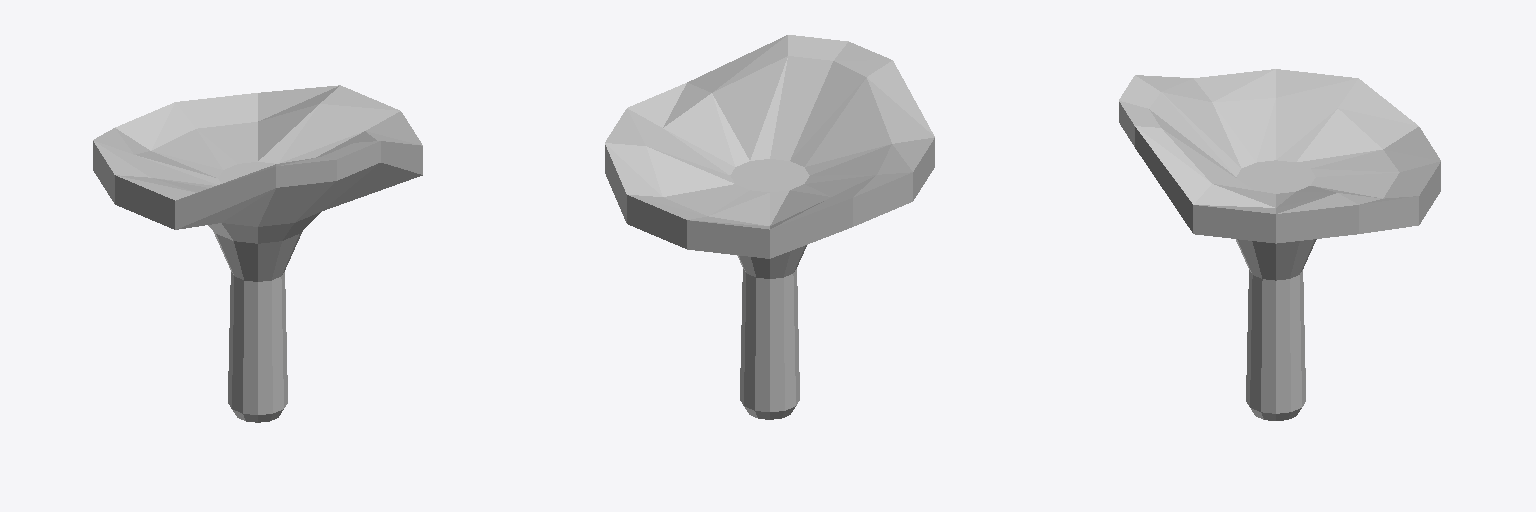
Rendered from Mushroom_003.obj.
3 views of the same model, side by side, from view 1: azimuth 30°, elevation 25°; view 2: azimuth 150°, elevation 25°; view 3: azimuth 270°, elevation 25° (orthographic).
Visible parts, largest first — view 1: Mushroom_003 Mushrooms; view 2: Mushroom_003 Mushrooms; view 3: Mushroom_003 Mushrooms.
Part boxes in pixels (x1,y1,x2,y2): Mushroom_003 Mushrooms: (93, 85, 422, 422); Mushroom_003 Mushrooms: (605, 35, 934, 419); Mushroom_003 Mushrooms: (1119, 69, 1440, 420).
Bounding box in the file's own units: 15.98 × 16.59 × 15.6.